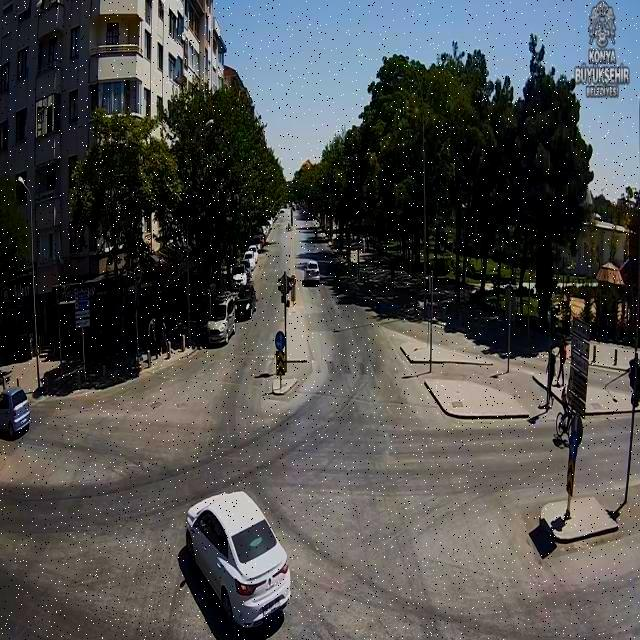Car: (184, 489, 290, 626), (0, 386, 32, 441), (206, 296, 236, 345), (236, 284, 256, 319), (230, 264, 248, 291), (304, 261, 320, 284), (243, 251, 256, 270), (248, 245, 260, 262)
Cycle: (554, 407, 583, 440)
